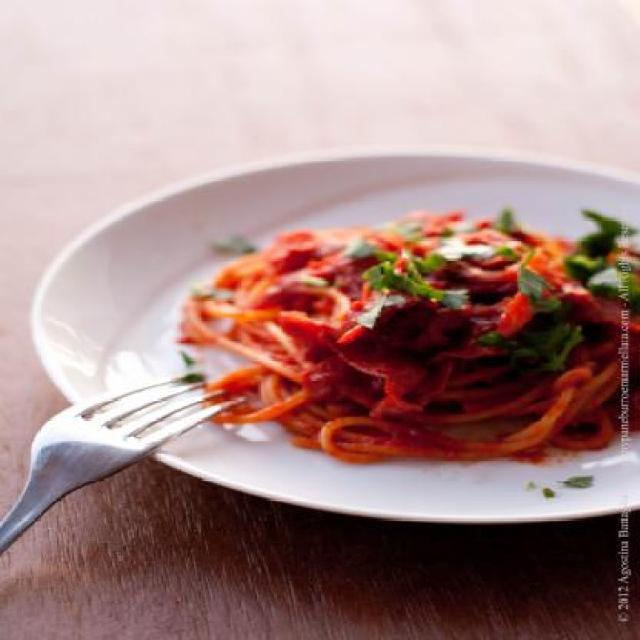Oil pasta: (140, 183, 640, 483)
